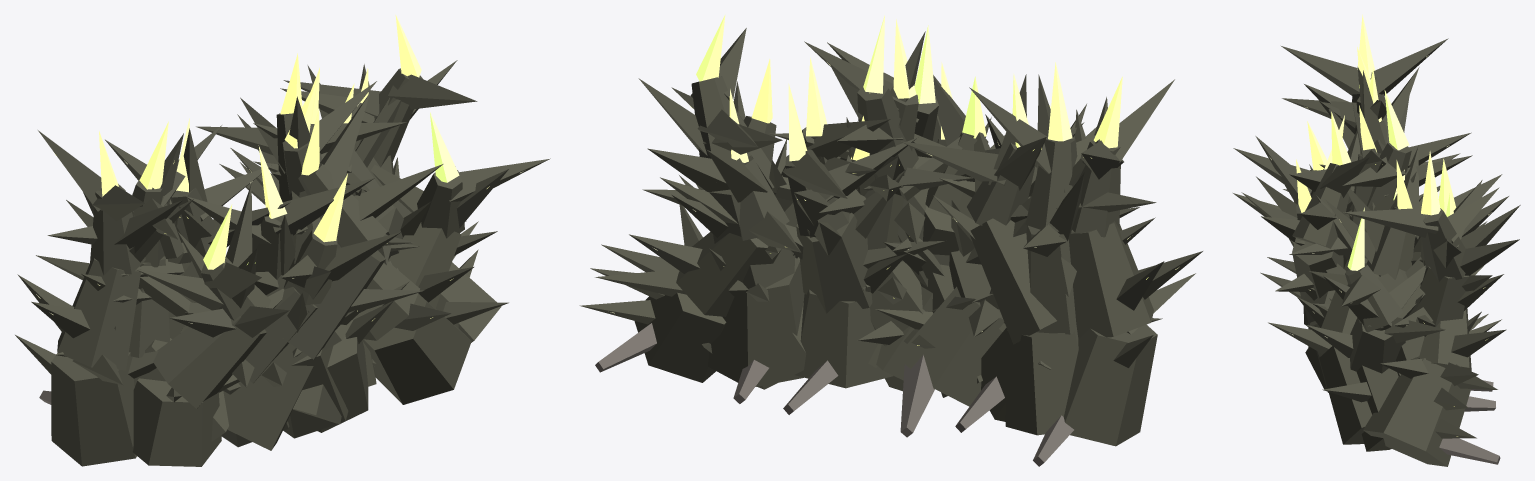
The model's file is thorn_wall_1.glb.
The picture shows the model from 3 angles, left to right: view 1: azimuth 30°, elevation 25°; view 2: azimuth 150°, elevation 25°; view 3: azimuth 270°, elevation 25°; orthographic projection. The views are drawn at different scales.
Parts seen in each view (by area): view 1: thorn_wall_1; view 2: thorn_wall_1; view 3: thorn_wall_1.
Part boxes in pixels (x1,y1,x2,y2): thorn_wall_1: (15, 15, 550, 466); thorn_wall_1: (579, 15, 1202, 466); thorn_wall_1: (1233, 14, 1520, 466).
Size of the model in its own units: 3.98 by 2.7 by 2.24.
